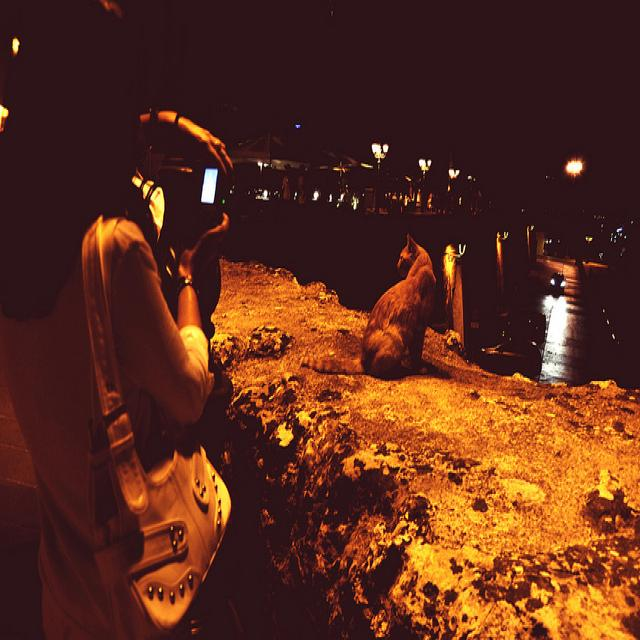Cat: (334, 239, 436, 420)
People: (13, 12, 229, 640)
